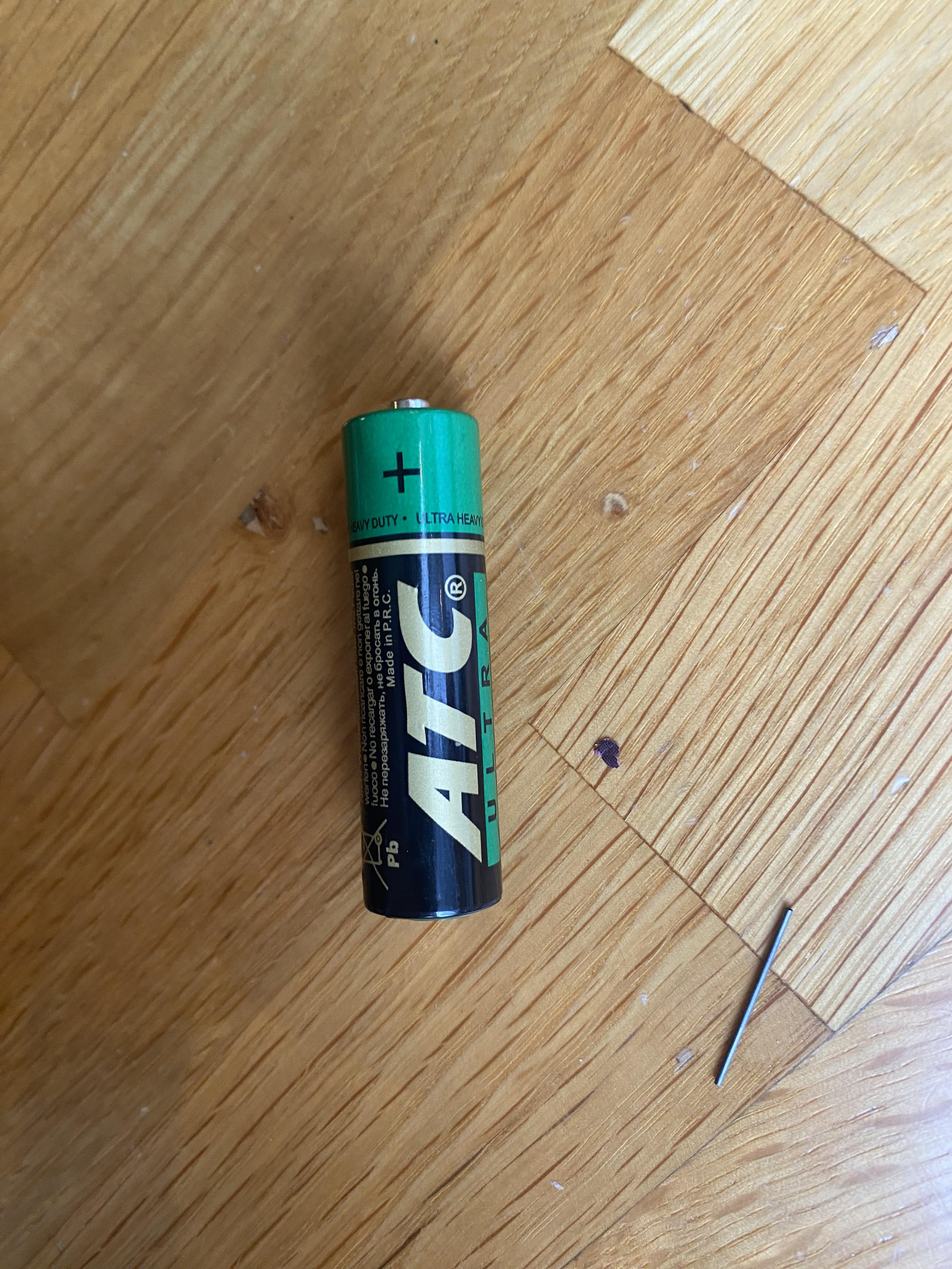AA: (340, 397, 504, 920)
